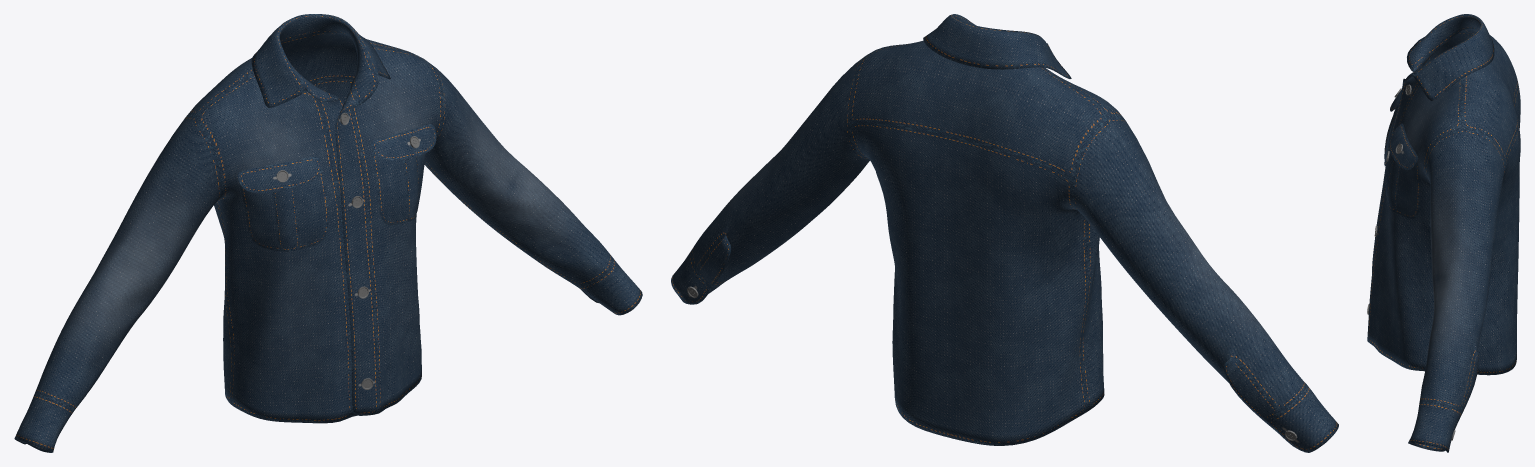
Rendered from camisa.glb.
The picture shows the model from 3 angles, left to right: view 1: azimuth 30°, elevation 25°; view 2: azimuth 150°, elevation 25°; view 3: azimuth 270°, elevation 25°; orthographic projection. The views are drawn at different scales.
Visible parts, largest first — view 1: 0RetopoMain.005; view 2: 0RetopoMain.005; view 3: 0RetopoMain.005.
Part boxes in pixels (left/top/right/bottom): 0RetopoMain.005: left=14, top=14, right=642, bottom=452; 0RetopoMain.005: left=671, top=14, right=1338, bottom=452; 0RetopoMain.005: left=1367, top=14, right=1520, bottom=452.
Bounding box in the file's own units: 1.63 × 0.9368 × 0.3967.
1 material, 1 textured.
